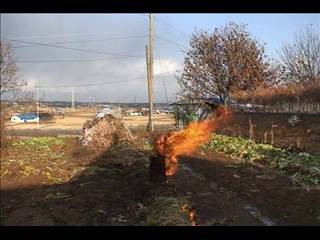fire: (154, 118, 215, 177), (179, 202, 198, 226)
